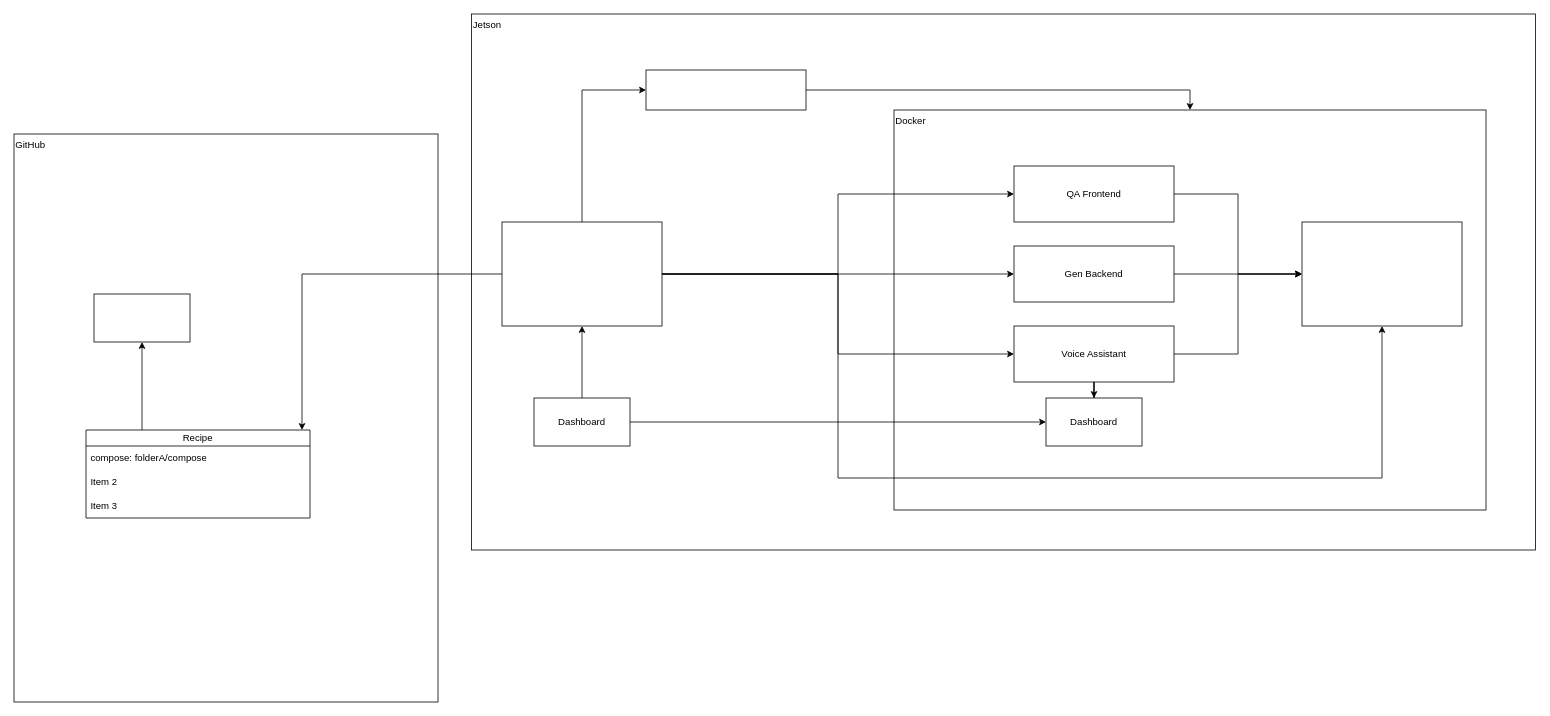
This 1550x716 diagram has some shape labels left out. The centre of each missing label's shape, as x and y in pixels:
"Docker Compose" goes at (725,89).
"GitOps" goes at (581,273).
"LlamaCppServer" goes at (1381,273).
"Repo" goes at (141,317).
